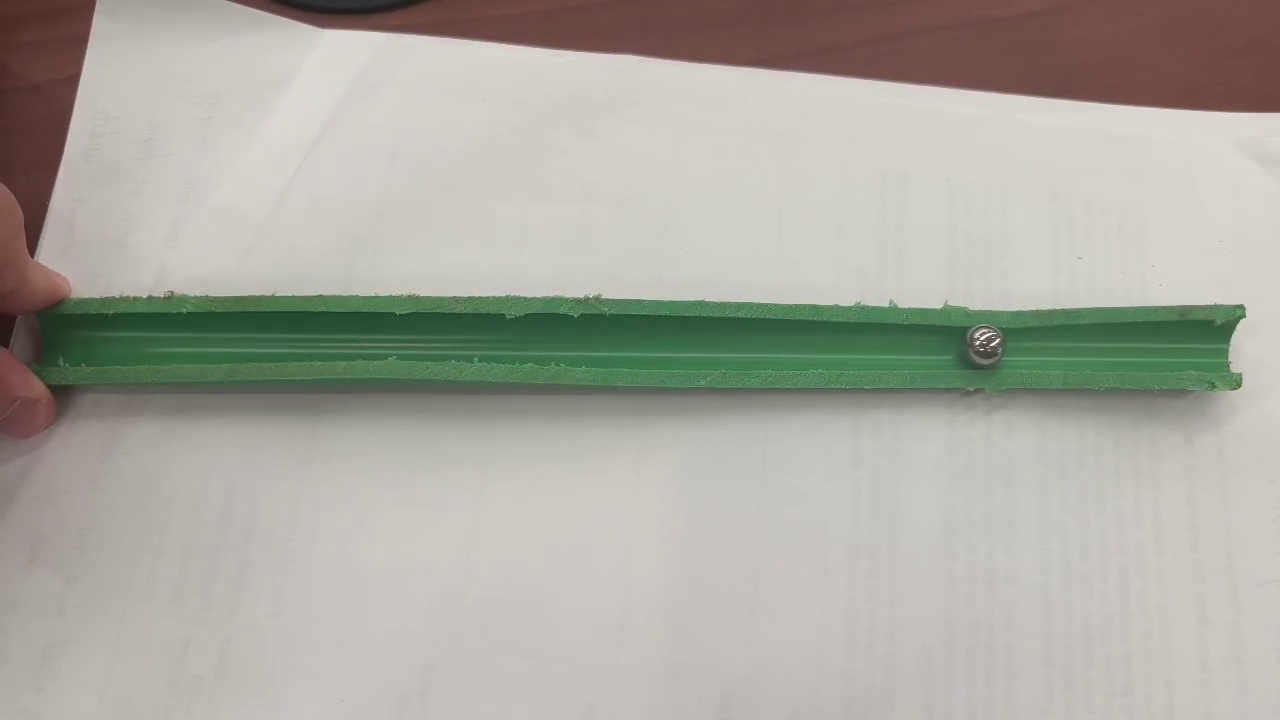ball: (967, 325, 1003, 366)
